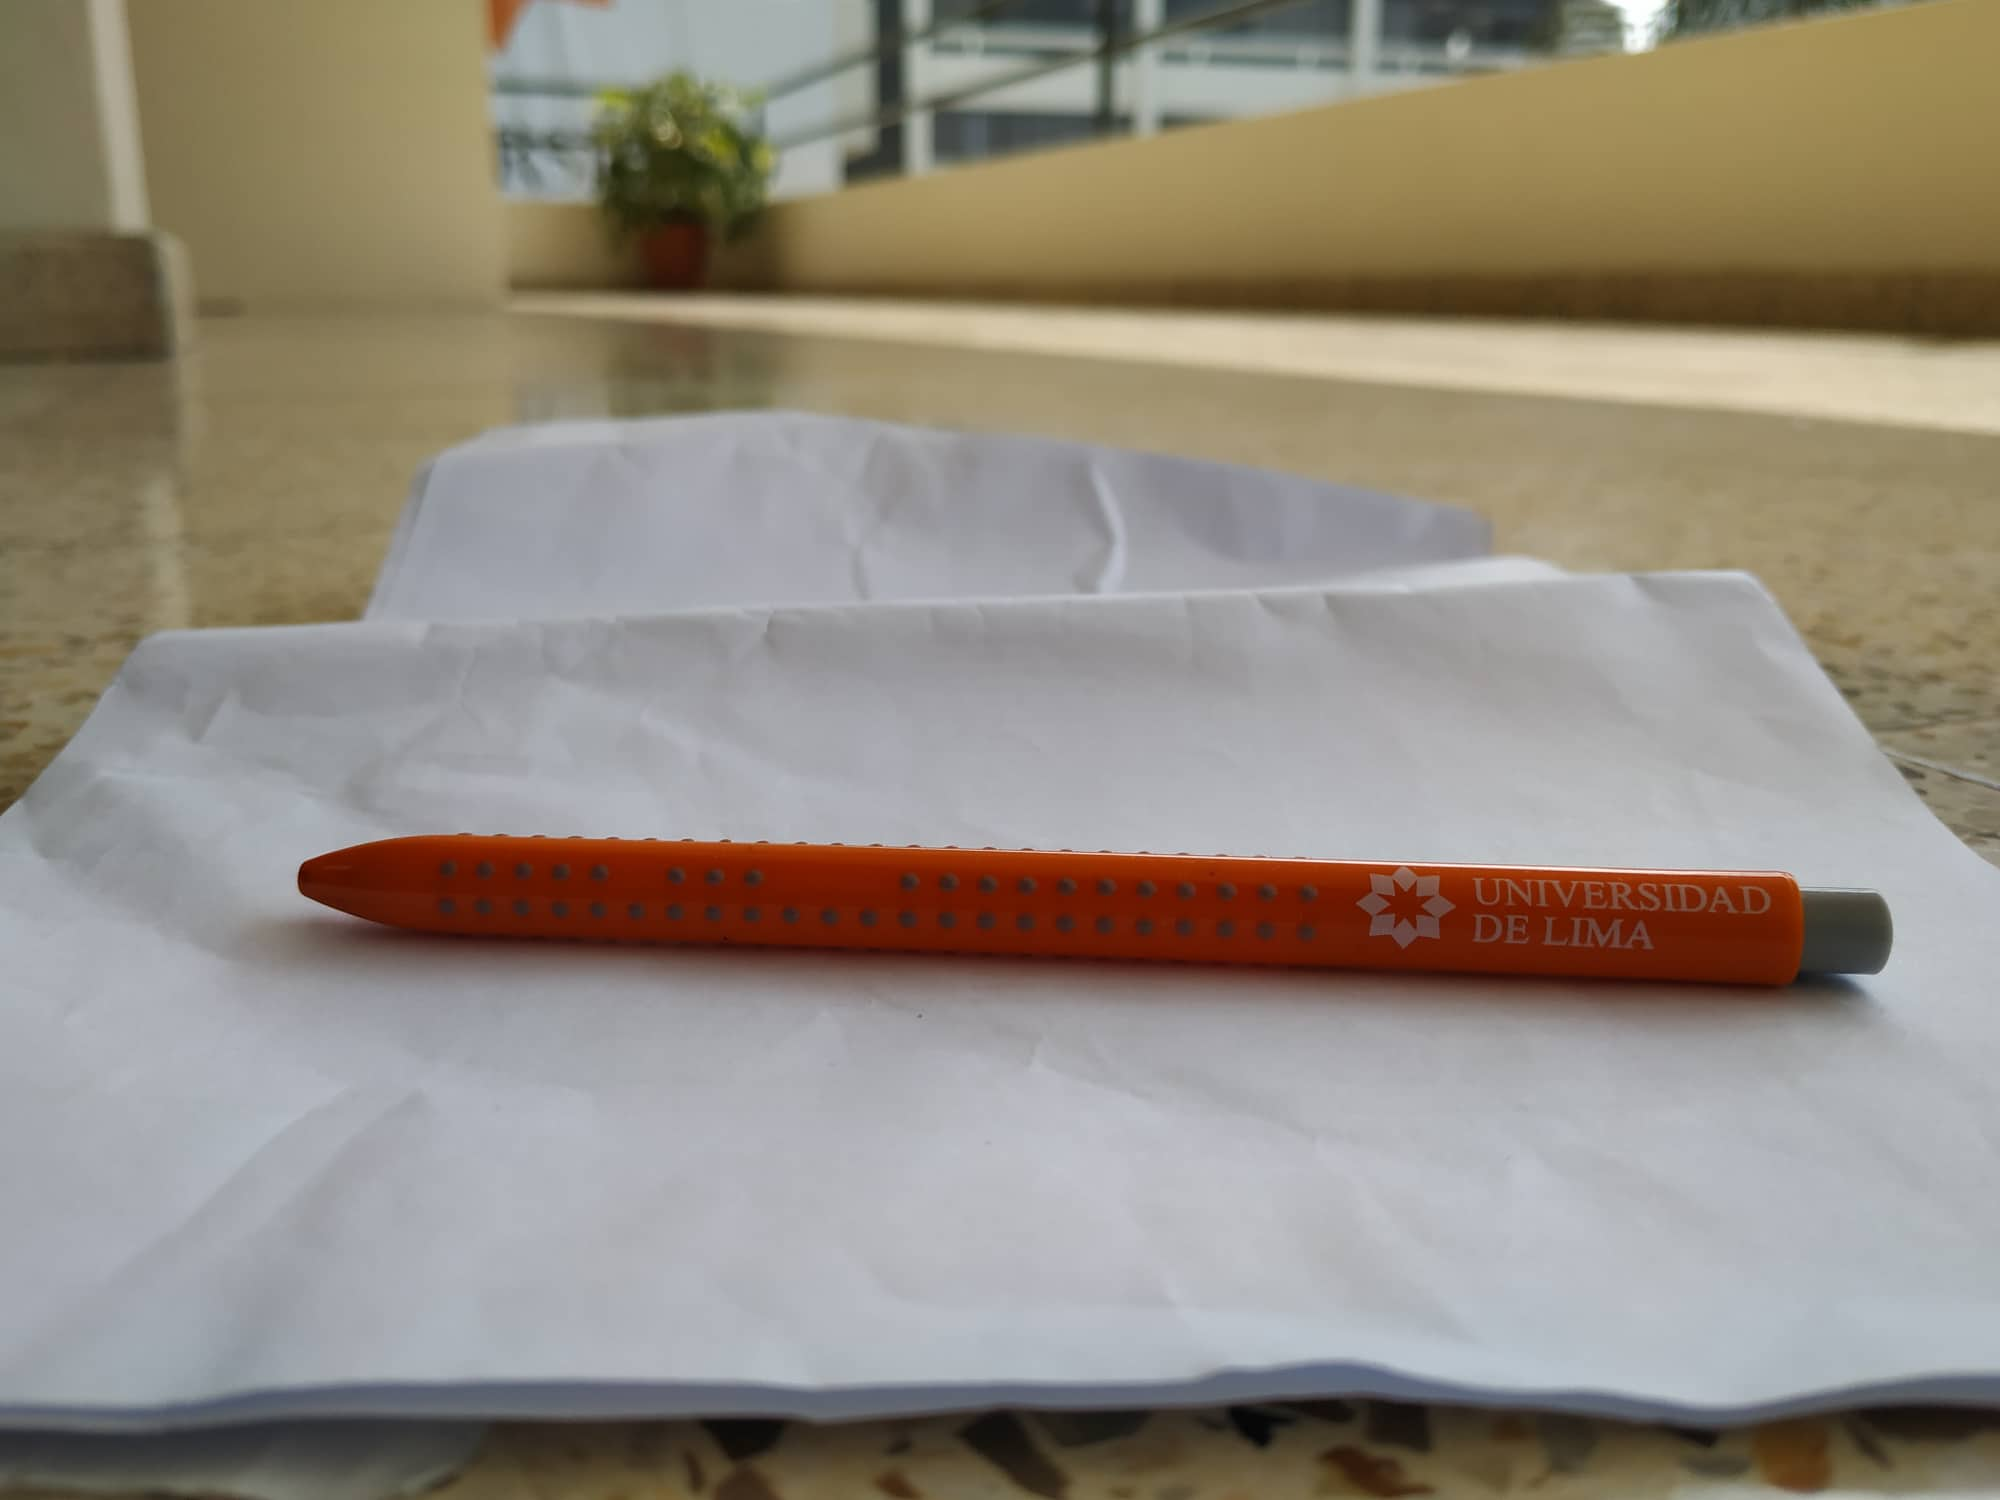qillqana: (269, 800, 1924, 1008)
